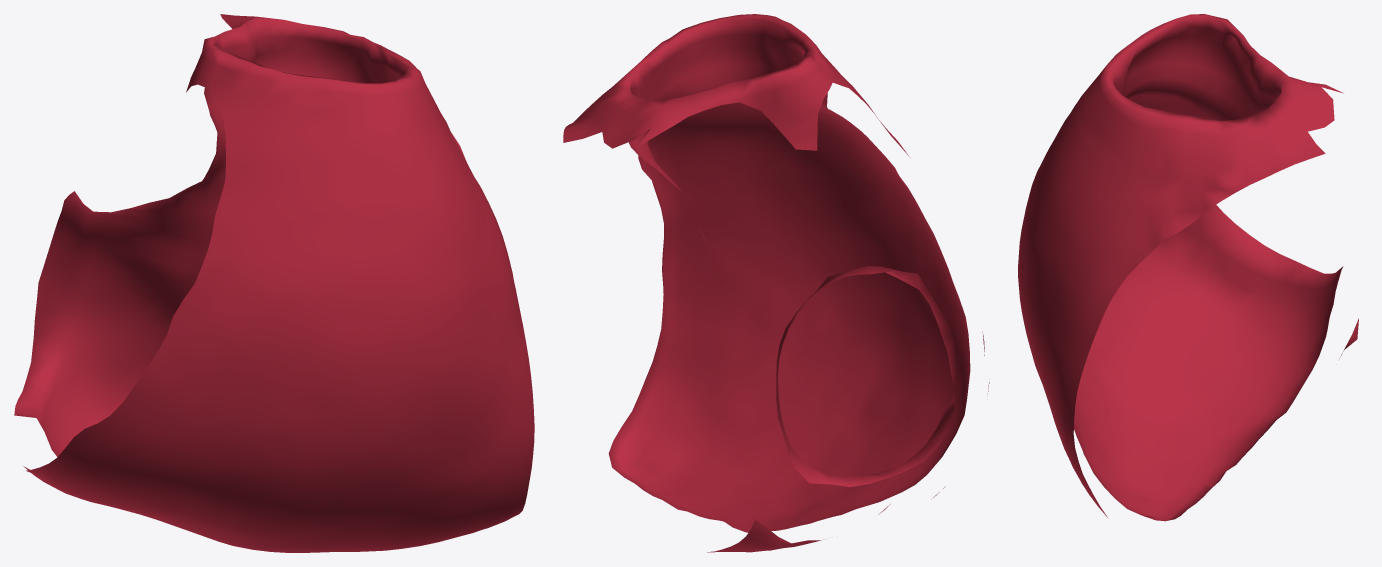
Rendered from right-ventricle.glb.
3 renders of one model, left to right at view 1: azimuth 30°, elevation 25°; view 2: azimuth 150°, elevation 25°; view 3: azimuth 270°, elevation 25°, orthographic. The views are drawn at different scales.
Visible parts, largest first — view 1: Right ventricle; view 2: Right ventricle; view 3: Right ventricle.
Boxes of the visible parts, x1,y1,x2,y2 form: Right ventricle: (14, 14, 534, 552); Right ventricle: (563, 14, 989, 552); Right ventricle: (1018, 14, 1358, 521).
Bounding box in the file's own units: 0.083 × 0.0928 × 0.0671.
